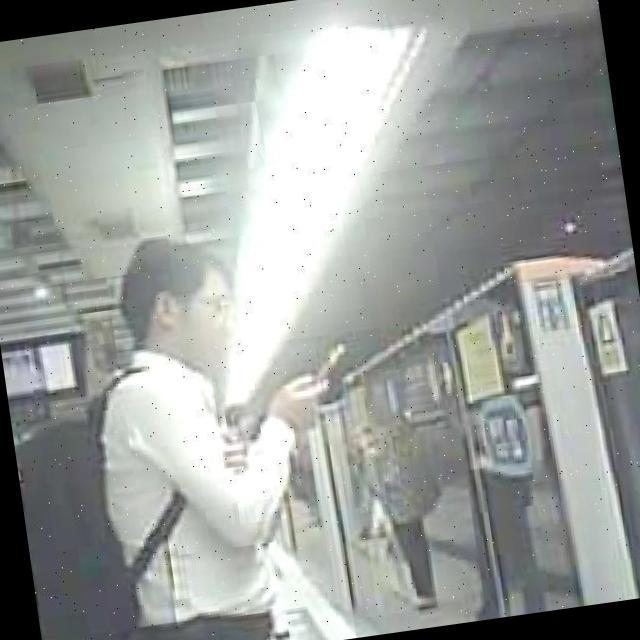person: (55, 218, 360, 640), (358, 408, 450, 618)
